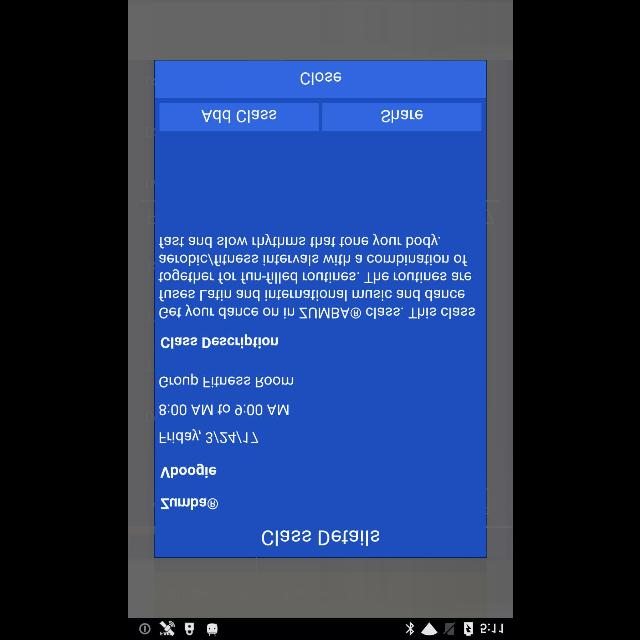panel: (154, 60, 486, 558)
text: (158, 234, 474, 318), (158, 373, 292, 387), (262, 530, 378, 546), (160, 334, 278, 348), (158, 404, 288, 416), (158, 429, 258, 443), (159, 464, 215, 478), (159, 498, 217, 509)
textbutton: (154, 60, 486, 98), (158, 103, 318, 131), (322, 103, 481, 131)
uppertaskbar: (128, 617, 512, 639)
